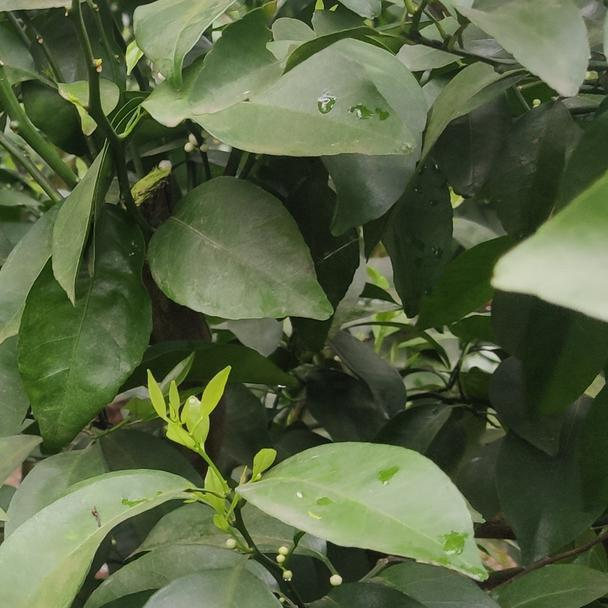shoot: (149, 375, 235, 495)
